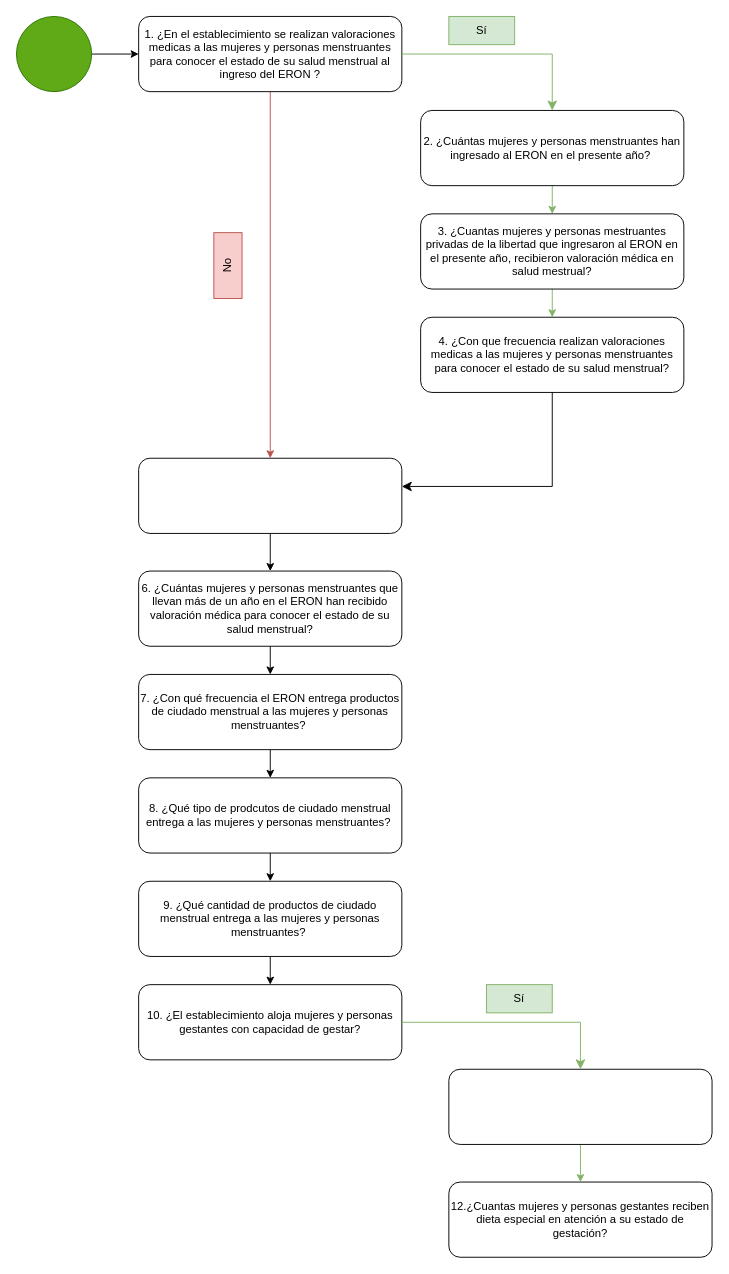
Some shapes in this 729 by 1274 pixel diagram are drawn without their labels. The shapes that lost their labels are listed below. From the top down, each one's centre as x and y in pixels, then its label:
the point at 54,54: Género
the point at 270,495: 5. ¿Cuántas mujeres y personas menstruantes llevan más de un año en el ERON?
the point at 580,1106: 11. ¿Cuantas mujeres y personas gestantes tiene el establecimiento?
